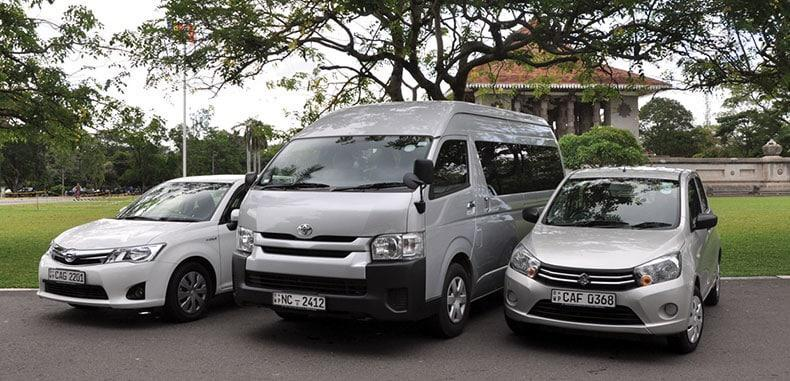license-plate: (550, 287, 614, 306), (271, 291, 326, 310), (46, 266, 83, 283)
